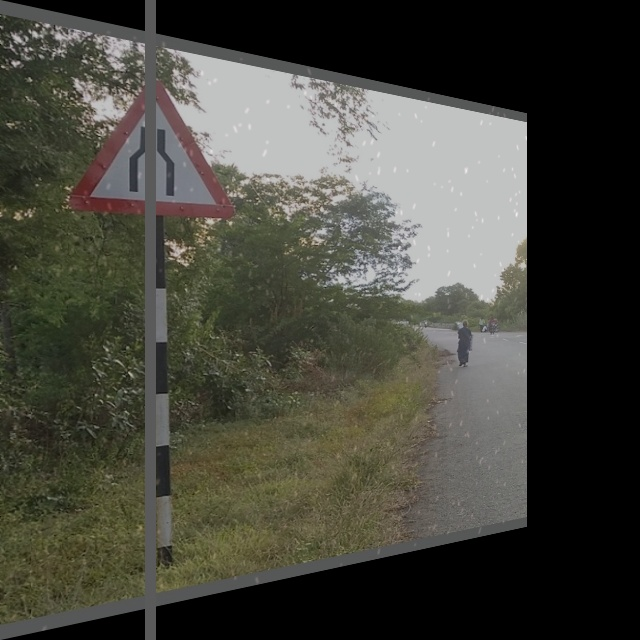Narrow_Road_Ahead: (69, 60, 239, 221)
